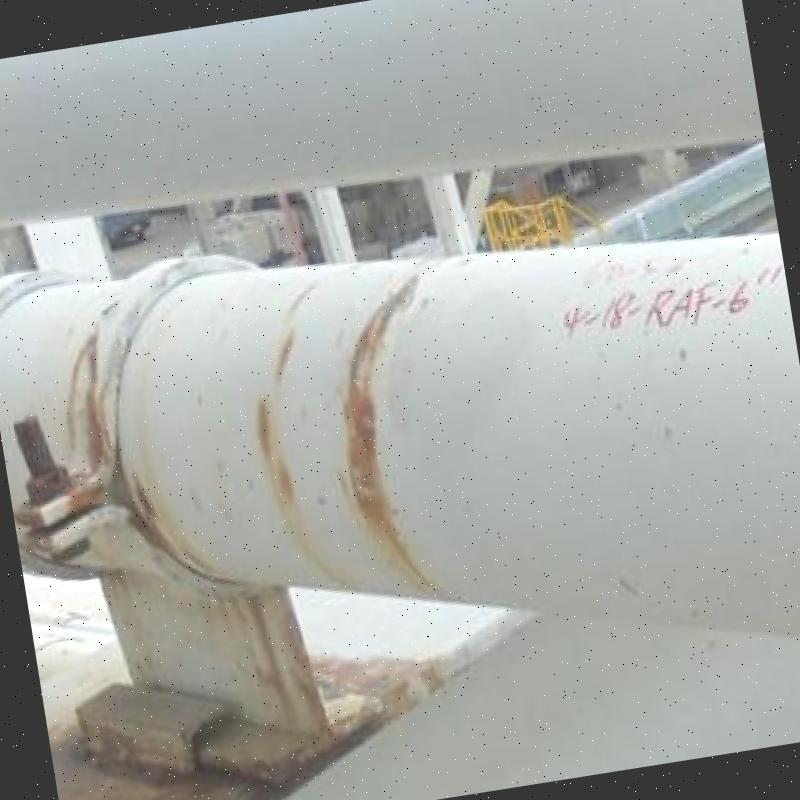corrosion: (309, 342, 412, 552)
